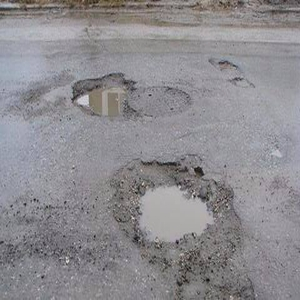pothole: (113, 160, 244, 265), (70, 72, 142, 121), (216, 59, 251, 88)
